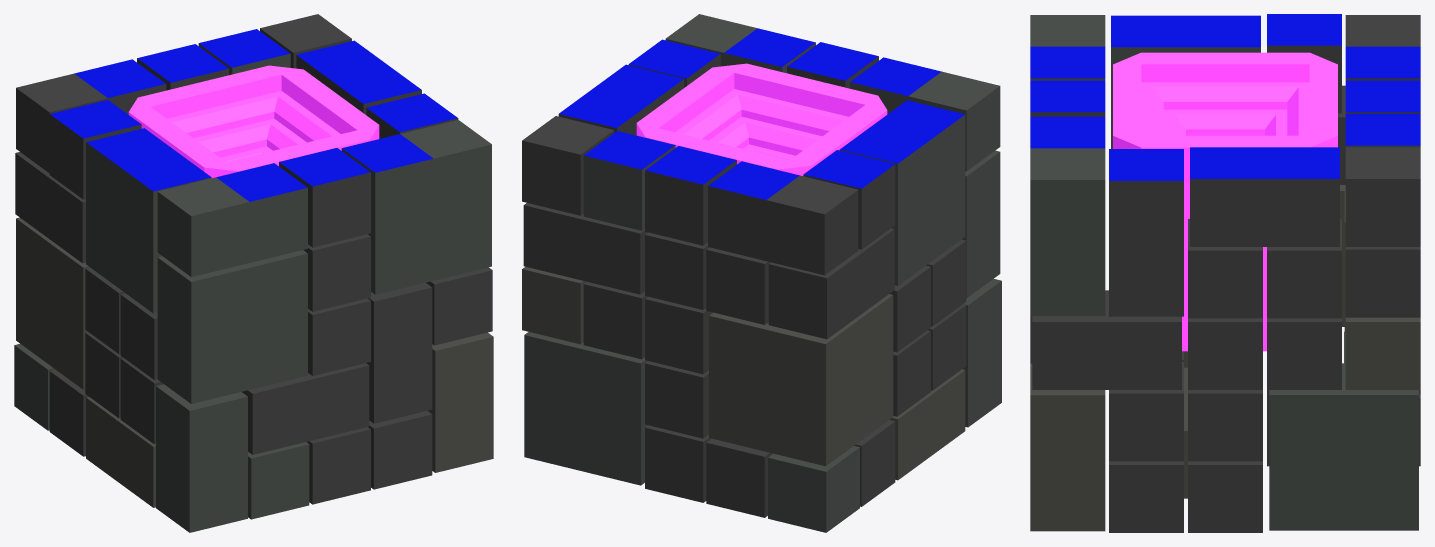
The model's file is PortalTile.fbx.
3 renders of one model, left to right at view 1: azimuth 30°, elevation 25°; view 2: azimuth 150°, elevation 25°; view 3: azimuth 270°, elevation 25°, orthographic. The views are drawn at different scales.
Parts seen in each view (by area): view 1: PortalTile, Cube; view 2: PortalTile, Cube; view 3: PortalTile, Cube.
Boxes of the visible parts, left/top/right/bottom form: PortalTile: left=14, top=14, right=493, bottom=532; Cube: left=128, top=65, right=379, bottom=178; PortalTile: left=522, top=14, right=1001, bottom=532; Cube: left=636, top=63, right=887, bottom=175; PortalTile: left=1030, top=14, right=1420, bottom=532; Cube: left=1113, top=52, right=1337, bottom=351.
Bounding box in the file's own units: 990 × 990 × 990.
